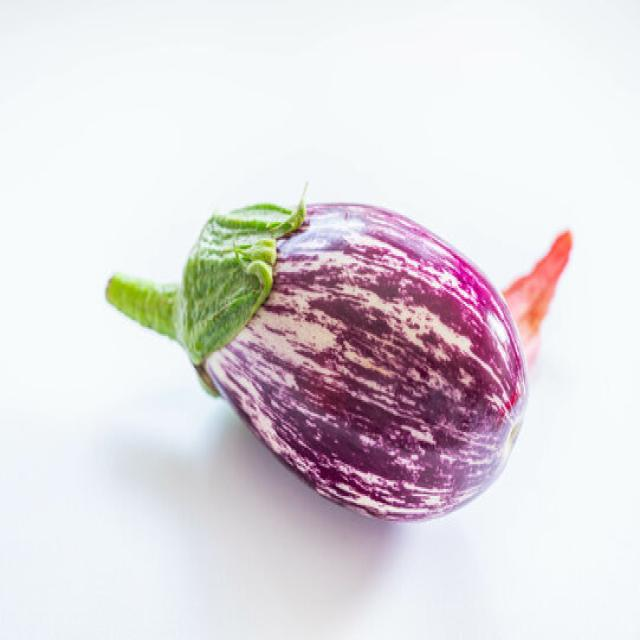Eggplant: (107, 198, 528, 516)
